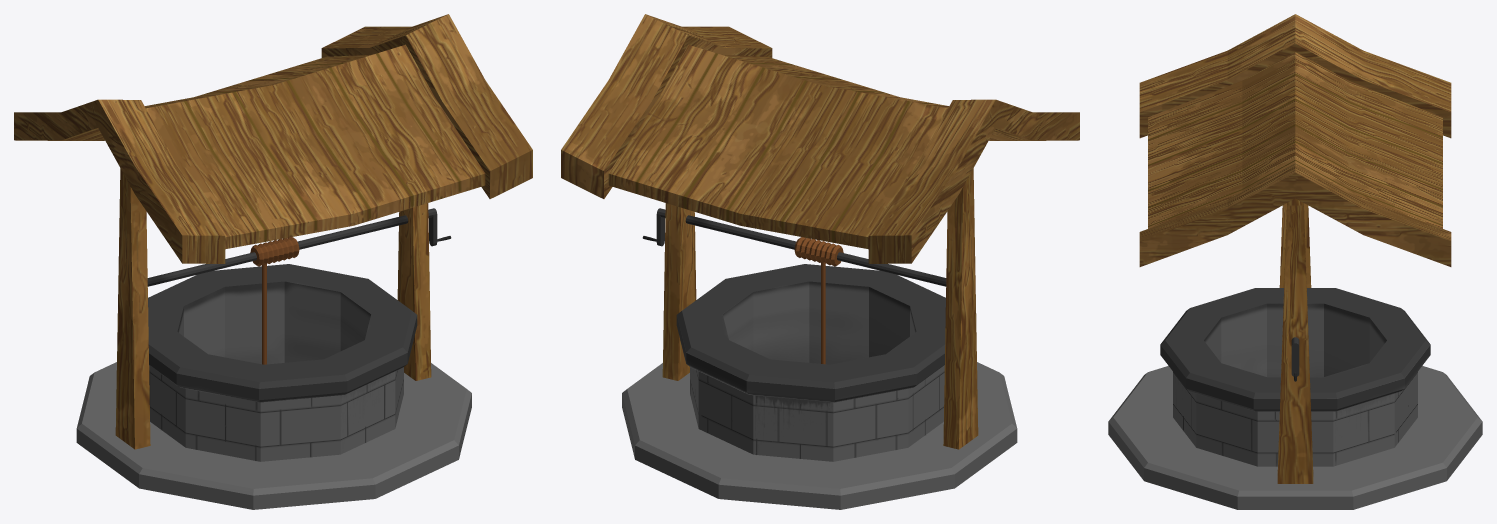
File: WaterWell.fbx
3 views of the same model, side by side, from view 1: azimuth 30°, elevation 25°; view 2: azimuth 150°, elevation 25°; view 3: azimuth 270°, elevation 25° (orthographic). The views are drawn at different scales.
Visible parts, largest first — view 1: Cylinder.010; view 2: Cylinder.010; view 3: Cylinder.010.
Boxes of the visible parts, x1,y1,x2,y2 form: Cylinder.010: (14, 14, 532, 509); Cylinder.010: (561, 14, 1079, 509); Cylinder.010: (1108, 14, 1482, 509).
Bounding box in the file's own units: 165 × 164 × 165.
